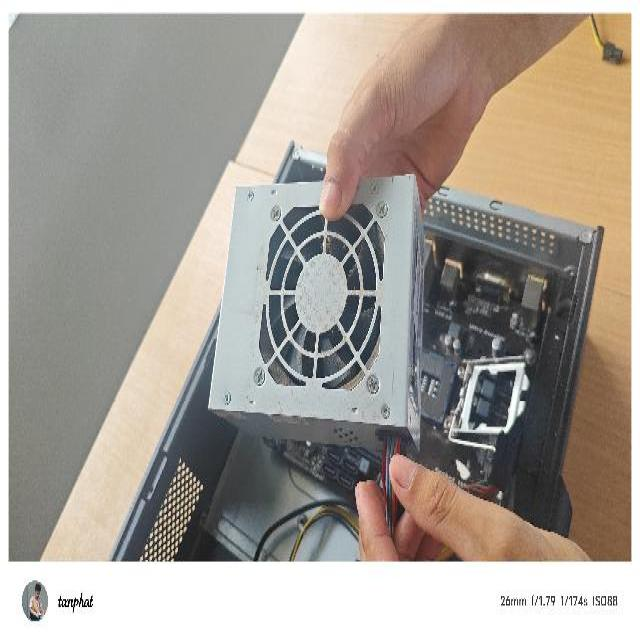PSU: (203, 163, 431, 508)
